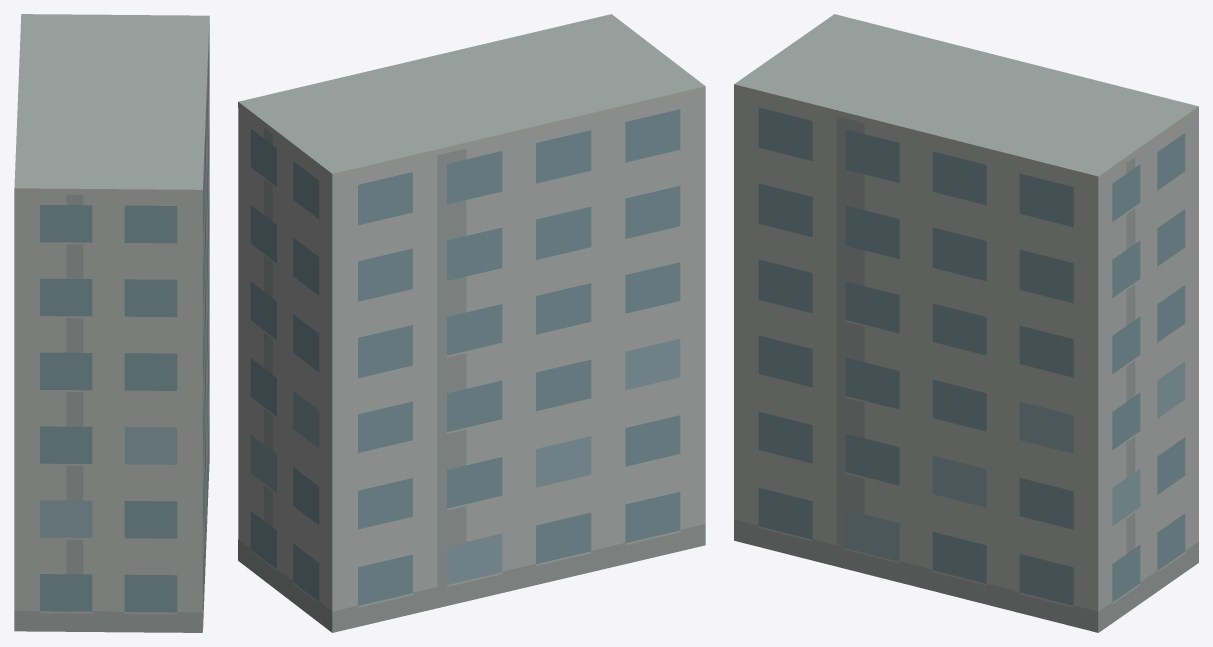
File: survey-upis-32783694.glb
The picture shows the model from 3 angles, left to right: view 1: azimuth 30°, elevation 25°; view 2: azimuth 150°, elevation 25°; view 3: azimuth 270°, elevation 25°; orthographic projection. The views are drawn at different scales.
Parts seen in each view (by area): view 1: survey-upis-32783694.tmp; view 2: survey-upis-32783694.tmp; view 3: survey-upis-32783694.tmp.
Part boxes in pixels (x1,y1,x2,y2): survey-upis-32783694.tmp: (14, 14, 209, 632); survey-upis-32783694.tmp: (238, 14, 705, 632); survey-upis-32783694.tmp: (734, 14, 1198, 632).
Bounding box in the file's own units: 14.06 × 18.4 × 16.99.
